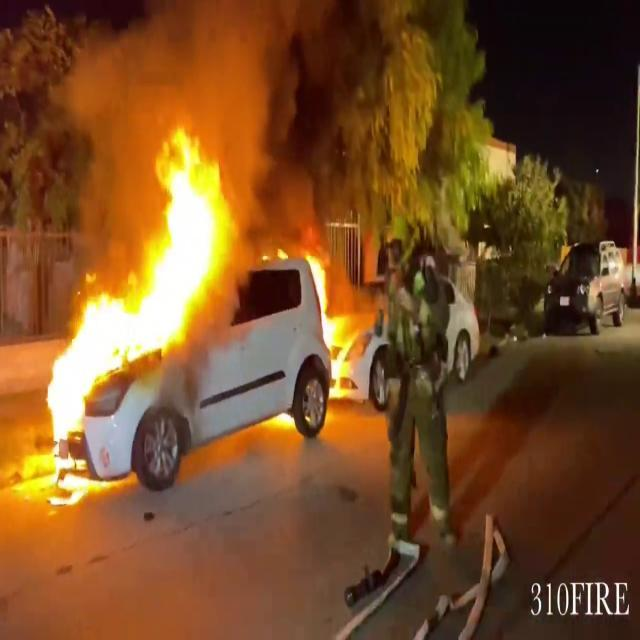Fire: (26, 117, 236, 480), (308, 239, 354, 399)
